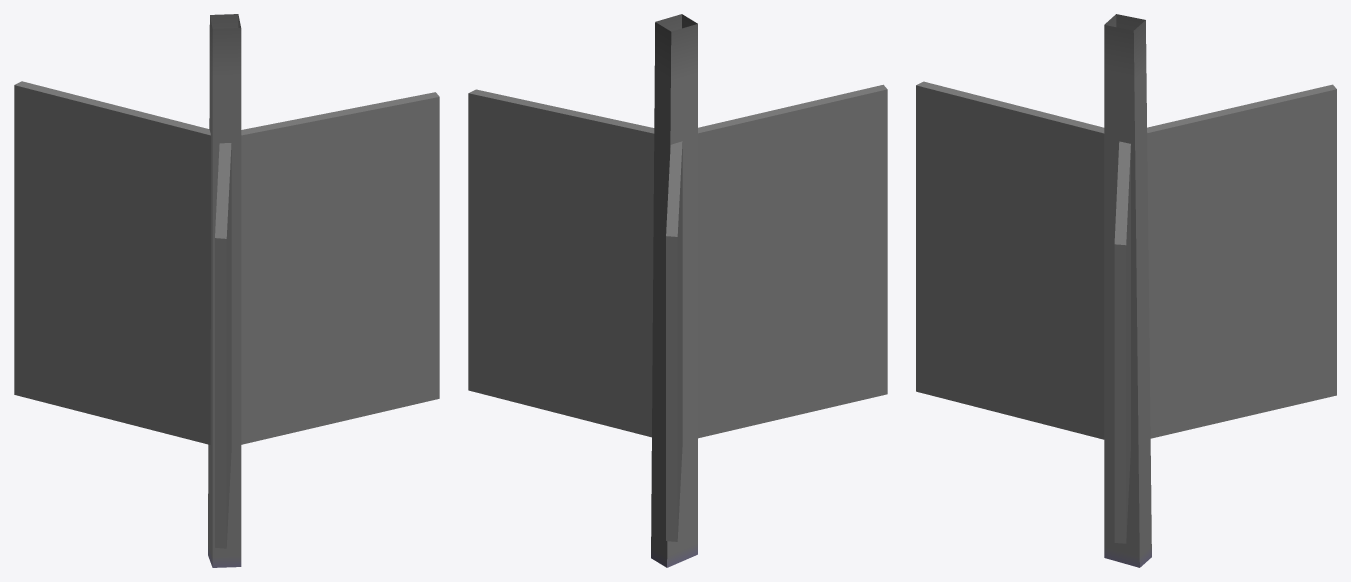
The model's file is SW_ENV_Turnstile_Collision.fbx.
3 renders of one model, left to right at view 1: azimuth 30°, elevation 25°; view 2: azimuth 150°, elevation 25°; view 3: azimuth 270°, elevation 25°, orthographic.
Visible parts, largest first — view 1: SW_ENV_Turnstile_Collision; view 2: SW_ENV_Turnstile_Collision; view 3: SW_ENV_Turnstile_Collision.
Boxes of the visible parts, left/top/right/bottom form: SW_ENV_Turnstile_Collision: left=14, top=14, right=439, bottom=567; SW_ENV_Turnstile_Collision: left=468, top=14, right=887, bottom=567; SW_ENV_Turnstile_Collision: left=916, top=14, right=1336, bottom=567.
Bounding box in the file's own units: 1.73 × 2.77 × 1.97.
